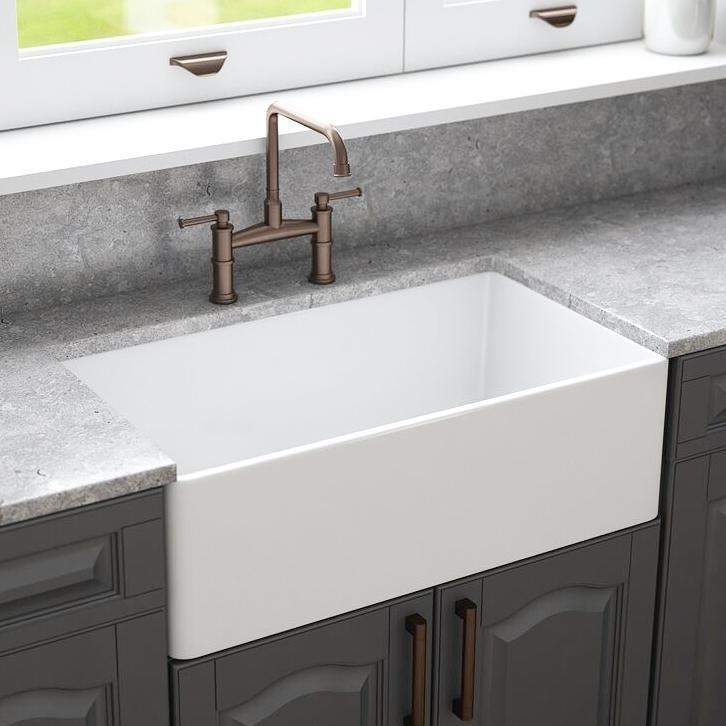Lavaplatos: (43, 116, 662, 660)
